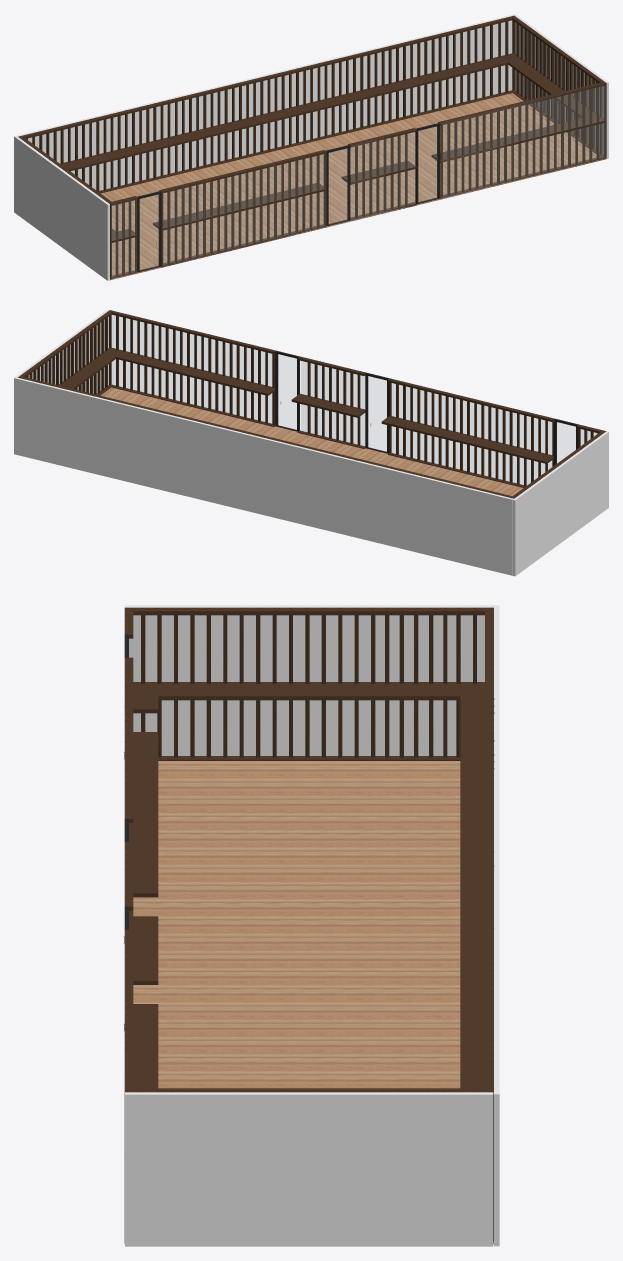
3 views of the same model, one above another, from view 1: azimuth 30°, elevation 25°; view 2: azimuth 150°, elevation 25°; view 3: azimuth 270°, elevation 25° (orthographic). The views are drawn at different scales.
Parts seen in each view (by area): view 1: floor, Wall_Back, Glass_Front_4, Glass_Front_2, Wall_Left, Mi_Back, Glass_Front_3, Co_Back, Wall_Right, Glass_Front_1, Mi_Front_4, Mi_Front_2 (+12 smaller); view 2: Wall_Back, Wall_Left, Glass_Front_4, Glass_Front_2, floor, Glass_Front_3, Mi_Front_2, Mi_Front_4, Wall_Right, Co_Back, Door3_Glass, Door2_Glass (+9 smaller); view 3: floor, Wall_Right, Wall_Left, Mi_Back, Mi_Left, Mi_Front_2, Co_Back, Wall_Back, Co_Left, Mi_Front_4, Mi_Front_3, Co_Right (+3 smaller).
Part boxes in pixels (box(x1,y1,x2,y2)): floor: box(101, 93, 606, 280); Wall_Back: box(17, 14, 515, 190); Glass_Front_4: box(441, 86, 604, 197); Glass_Front_2: box(163, 154, 324, 265); Wall_Left: box(14, 135, 109, 280); Mi_Back: box(60, 53, 520, 171); Glass_Front_3: box(351, 132, 415, 219); Co_Back: box(19, 16, 515, 138); Wall_Right: box(515, 15, 608, 158); Glass_Front_1: box(111, 200, 136, 277); Mi_Front_4: box(431, 114, 606, 162); Mi_Front_2: box(153, 183, 326, 230); Wall_Back: box(14, 377, 513, 575); Wall_Left: box(513, 431, 608, 576); Glass_Front_4: box(112, 315, 271, 423); Glass_Front_2: box(392, 383, 551, 484); floor: box(101, 387, 523, 495); Glass_Front_3: box(301, 361, 364, 445); Mi_Front_2: box(381, 416, 554, 463); Mi_Front_4: box(103, 348, 275, 395); Wall_Right: box(15, 309, 109, 393); Co_Back: box(19, 376, 515, 498); Door3_Glass: box(278, 354, 296, 429); Door2_Glass: box(368, 376, 386, 450); floor: box(124, 761, 493, 1244); Wall_Right: box(125, 1092, 493, 1246); Wall_Left: box(124, 605, 499, 755); Mi_Back: box(460, 682, 493, 1170); Mi_Left: box(158, 682, 460, 700); Mi_Front_2: box(129, 732, 158, 897); Co_Back: box(485, 607, 493, 1096); Wall_Back: box(494, 607, 499, 1246); Co_Left: box(133, 607, 484, 615); Mi_Front_4: box(124, 1004, 158, 1170); Mi_Front_3: box(129, 916, 158, 984); Co_Right: box(133, 1088, 484, 1092).
Size of the model in its own units: 21.03 by 3.09 by 6.83.
7 materials, 2 textured.
